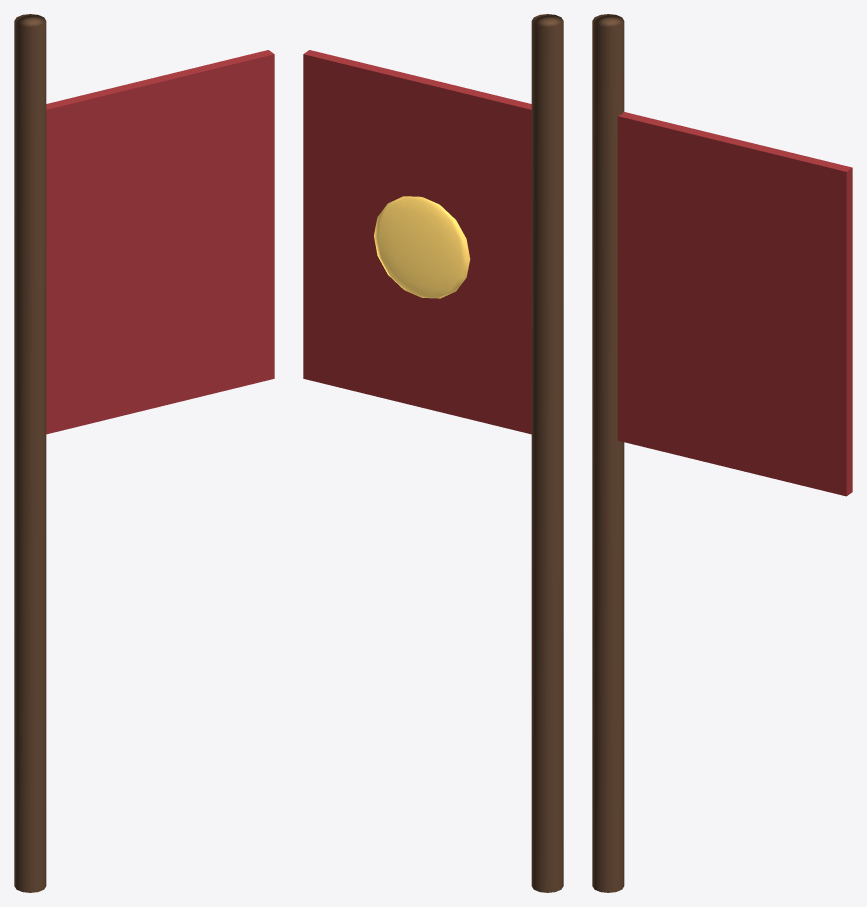
Rendered from banner.glb.
3 views of the same model, side by side, from view 1: azimuth 30°, elevation 25°; view 2: azimuth 150°, elevation 25°; view 3: azimuth 330°, elevation 25° (orthographic).
Parts seen in each view (by area): view 1: cloth, pole; view 2: cloth, pole, sun; view 3: cloth, pole.
Boxes of the visible parts, <box> form: cloth: <box>46,50,274,434</box>; pole: <box>14,14,46,892</box>; cloth: <box>303,50,531,434</box>; pole: <box>531,14,563,892</box>; sun: <box>374,196,470,298</box>; cloth: <box>617,112,852,496</box>; pole: <box>592,14,624,892</box>.
Size of the model in its own units: 0.74 by 2.4 by 0.085.
